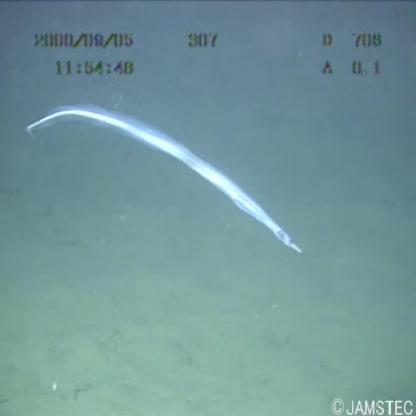Bio: (23, 98, 305, 260)
